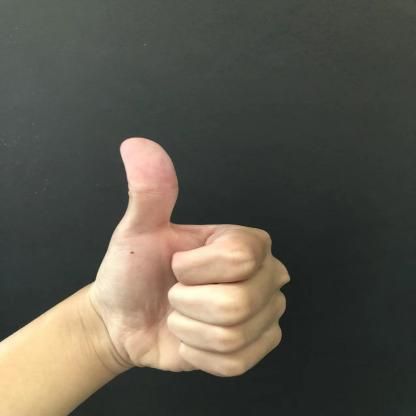Thumbs-Up: (70, 122, 294, 384)
